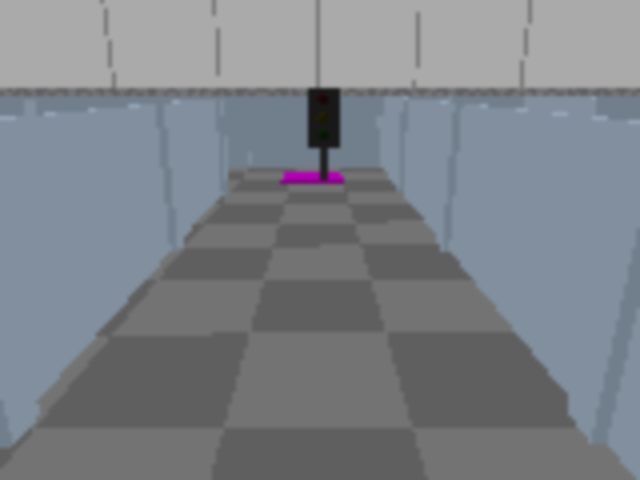goal_zone: (281, 171, 344, 183)
